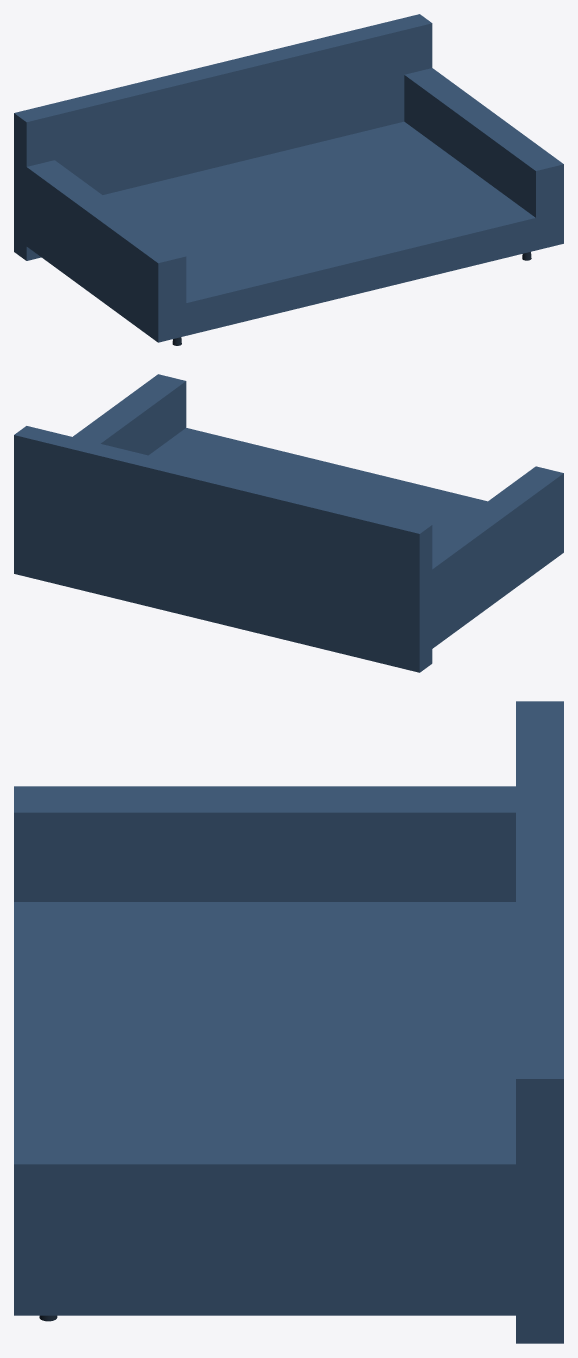
Rendered from sofa_corner_l.glb.
The picture shows the model from 3 angles, top to bottom: view 1: azimuth 30°, elevation 25°; view 2: azimuth 150°, elevation 25°; view 3: azimuth 270°, elevation 25°; orthographic projection. The views are drawn at different scales.
Parts seen in each view (by area): view 1: furniture; view 2: furniture; view 3: furniture.
Boxes of the visible parts, x1=… form: furniture: x1=14, y1=14, x2=563, y2=345; furniture: x1=14, y1=374, x2=563, y2=672; furniture: x1=14, y1=701, x2=563, y2=1343.
Size of the model in its own units: 2.6 by 0.85 by 1.6.
